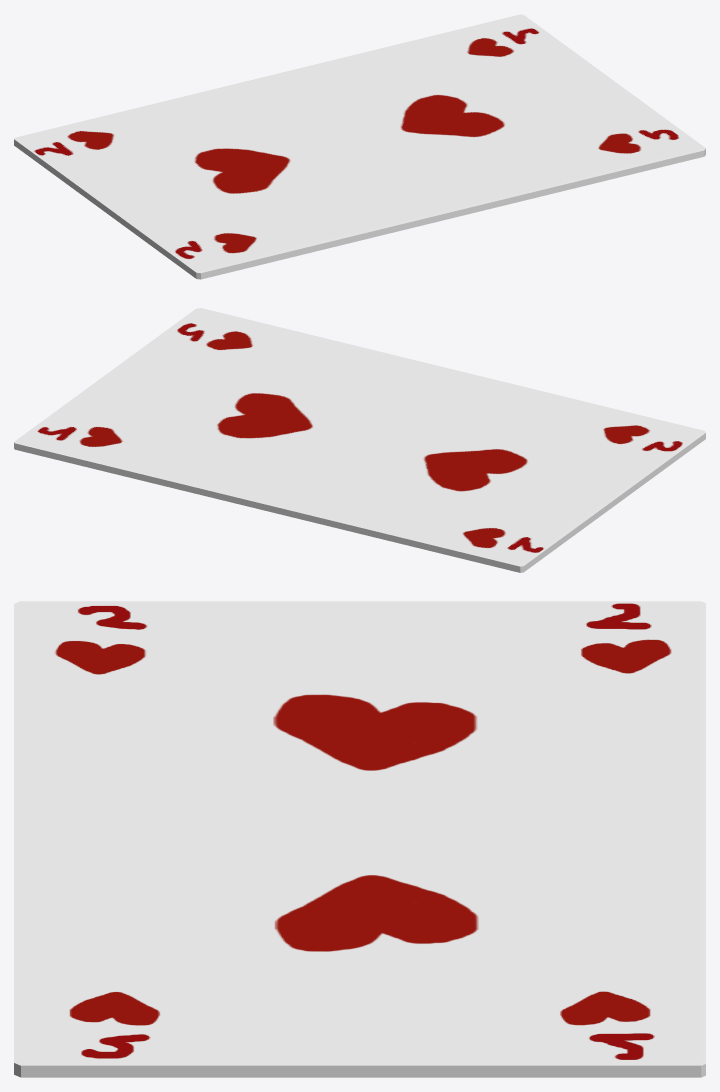
Rendered from 2_Hearts.fbx.
3 views of the same model, one above another, from view 1: azimuth 30°, elevation 25°; view 2: azimuth 150°, elevation 25°; view 3: azimuth 270°, elevation 25° (orthographic). The views are drawn at different scales.
Visible parts, largest first — view 1: Hearts2; view 2: Hearts2; view 3: Hearts2.
Boxes of the visible parts, x1=… form: Hearts2: x1=14, y1=14, x2=705, y2=279; Hearts2: x1=14, y1=308, x2=705, y2=572; Hearts2: x1=14, y1=601, x2=705, y2=1077.
Size of the model in its own units: 540 by 6.56 by 340.
